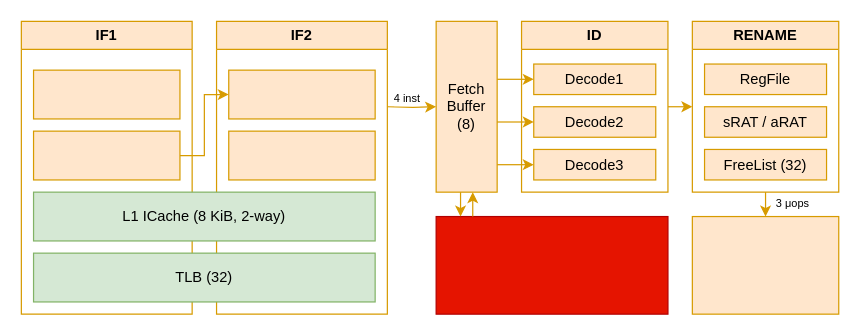
Some shapes in this 860 by 336 pixel diagram are drawn without their labels. Here are the shapes that lost their labels. From the top down, the centre of each, then its label:
At (x=106, y=94): "PC".
At (x=301, y=94): "PHT (8192)".
At (x=106, y=155): "BTB (1024)".
At (x=301, y=155): "RAS (8)".
At (x=551, y=264): "AI Predictor (Perceptron Late Corrector)".
At (x=765, y=264): "DISPATCH".
